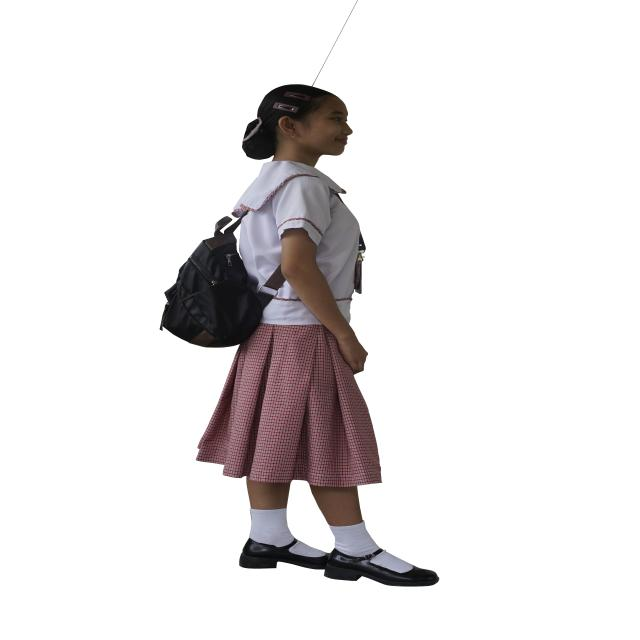pologirl: (234, 161, 360, 321), (262, 281, 320, 324)
shoes: (239, 538, 439, 587)
skirt: (197, 323, 381, 487)
